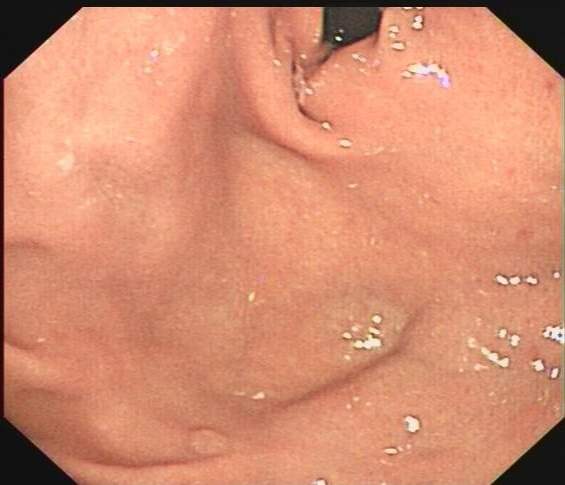Polyp: (170, 406, 240, 465)
